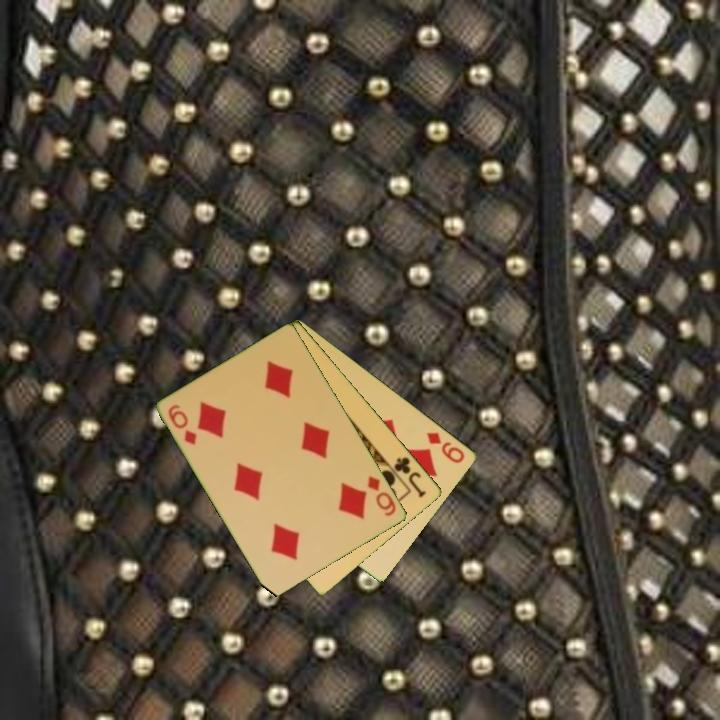6d: (364, 472, 399, 519), (165, 401, 200, 448)
9d: (423, 428, 468, 466)
Jc: (391, 453, 429, 500)
